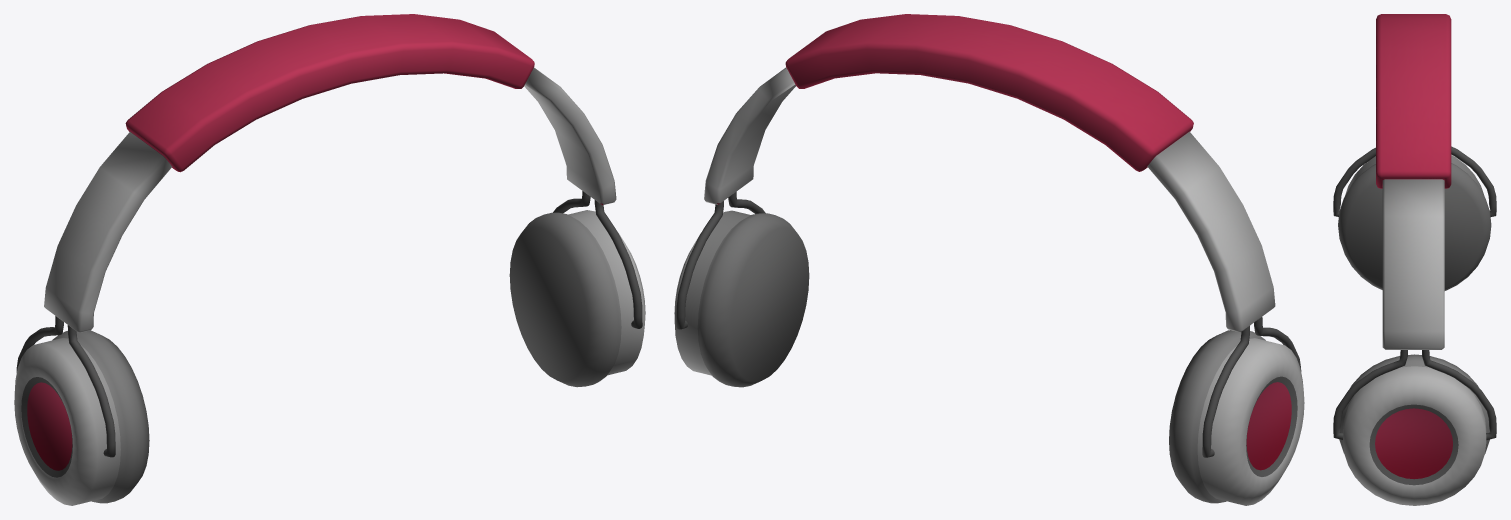
File: earphone1.fbx
The picture shows the model from 3 angles, left to right: view 1: azimuth 30°, elevation 25°; view 2: azimuth 150°, elevation 25°; view 3: azimuth 270°, elevation 25°; orthographic projection. The views are drawn at different scales.
Parts seen in each view (by area): view 1: Plane.001; view 2: Plane.001; view 3: Plane.001.
Boxes of the visible parts, x1,y1,x2,y2 form: Plane.001: [14, 14, 645, 505]; Plane.001: [674, 14, 1304, 505]; Plane.001: [1333, 14, 1496, 505].
Size of the model in its own units: 88.17 by 304 by 206.
